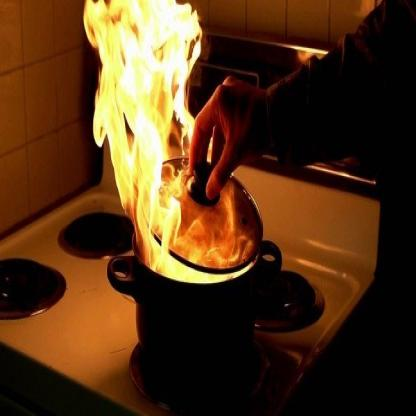fire: (82, 0, 245, 291)
